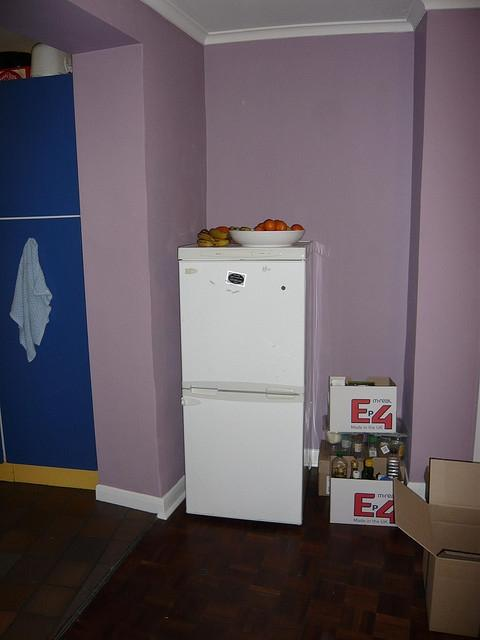banana: (209, 228, 231, 239), (197, 232, 220, 242), (197, 239, 218, 247)
orange: (263, 219, 276, 231), (291, 224, 304, 231), (216, 226, 230, 232), (254, 226, 265, 232), (257, 223, 264, 228), (273, 220, 281, 224)
